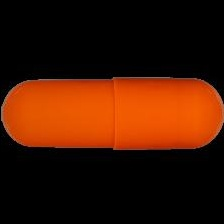0093-7386: (0, 0, 224, 224)
